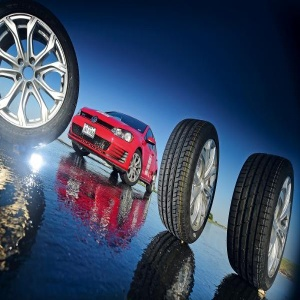train: (1, 4, 81, 142), (233, 149, 295, 283), (163, 113, 219, 245)
